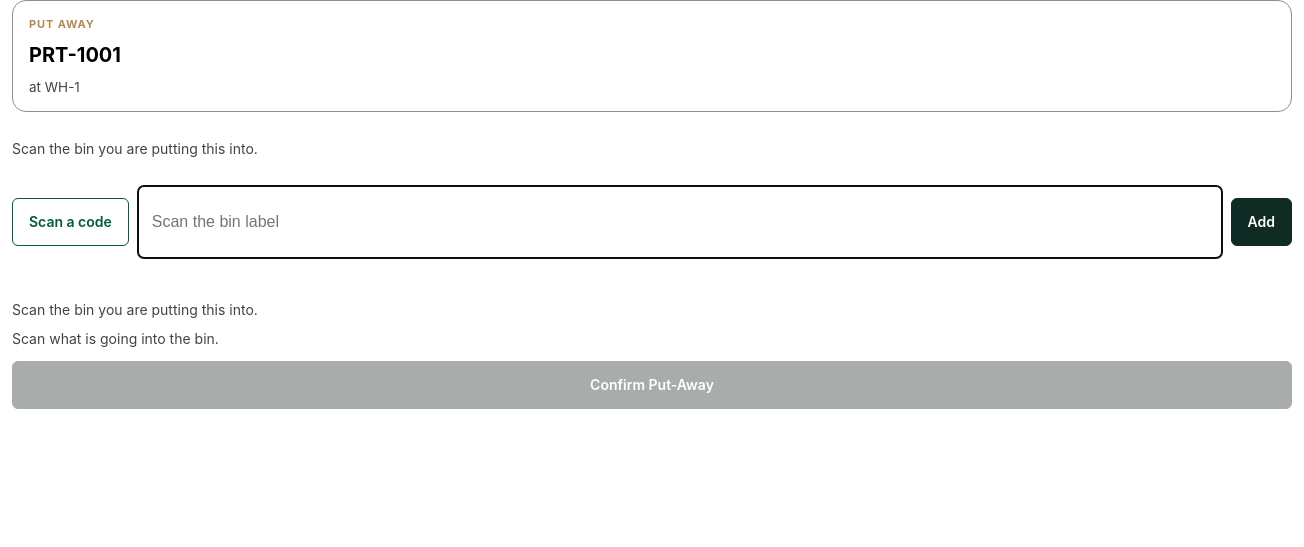
Test case: finishing a stow while disconnected › a stow that DOES reach the server says Put away, and says the warehouse total did not move
The width and height of the screenshot is (1304, 547).
Type "A-14" into the field named "scan bin" at coordinates (680, 222), box 137,185 -> 1223,259
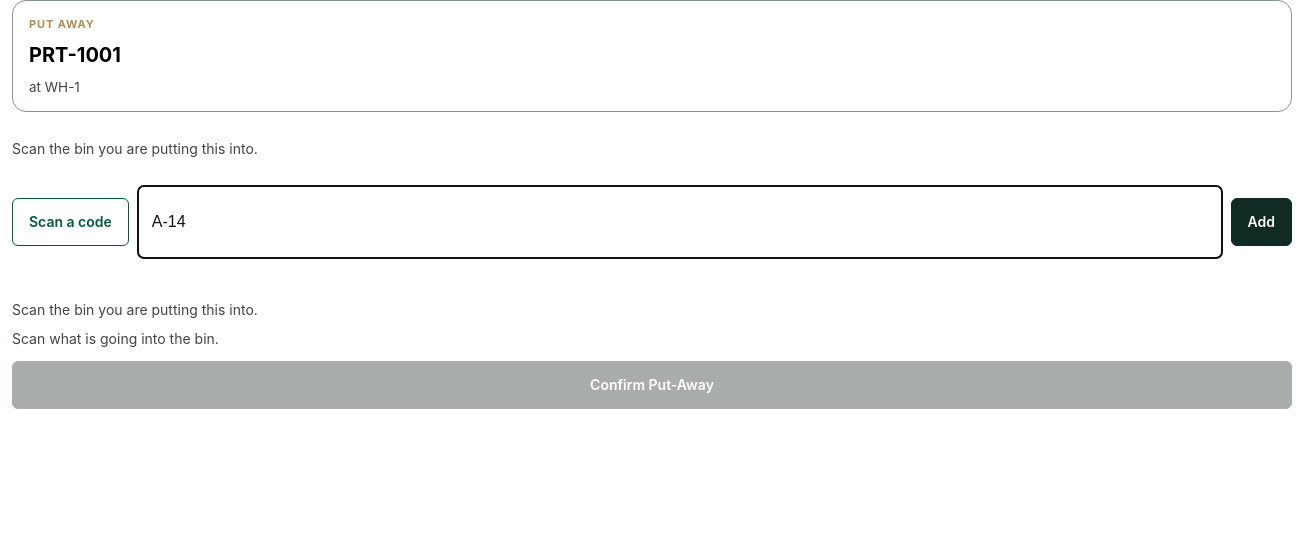
Click the button "Add" at coordinates (1261, 222), box 1230,198 -> 1292,246
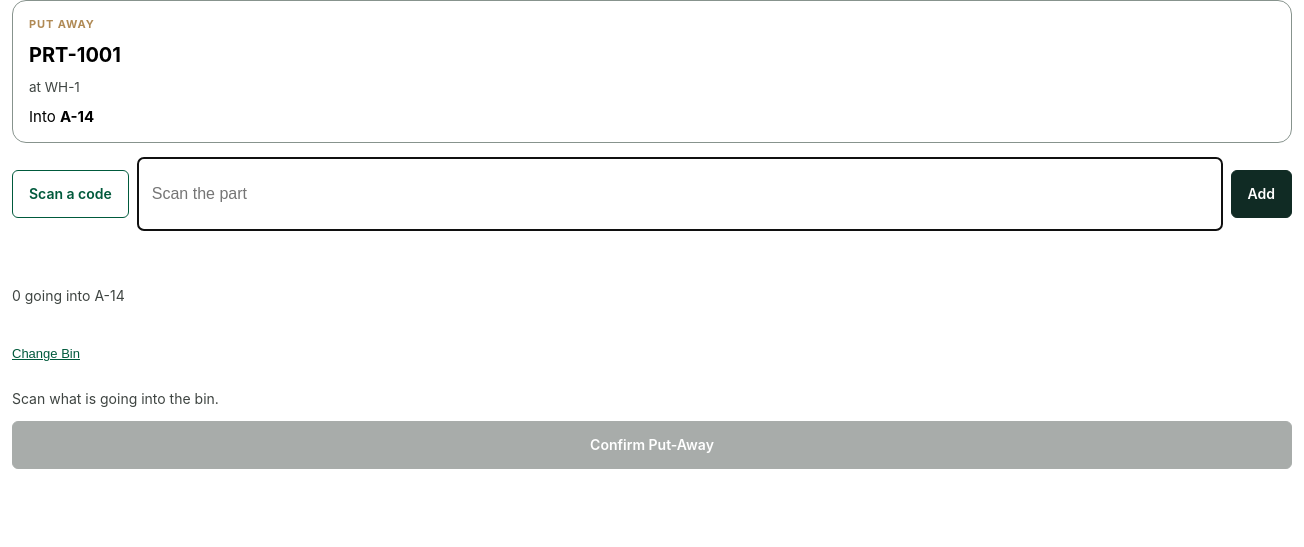
Check: the field named "scan item" is shown
Type "PRT-1001" into the field named "scan item" at coordinates (680, 194), box 137,157 -> 1223,231
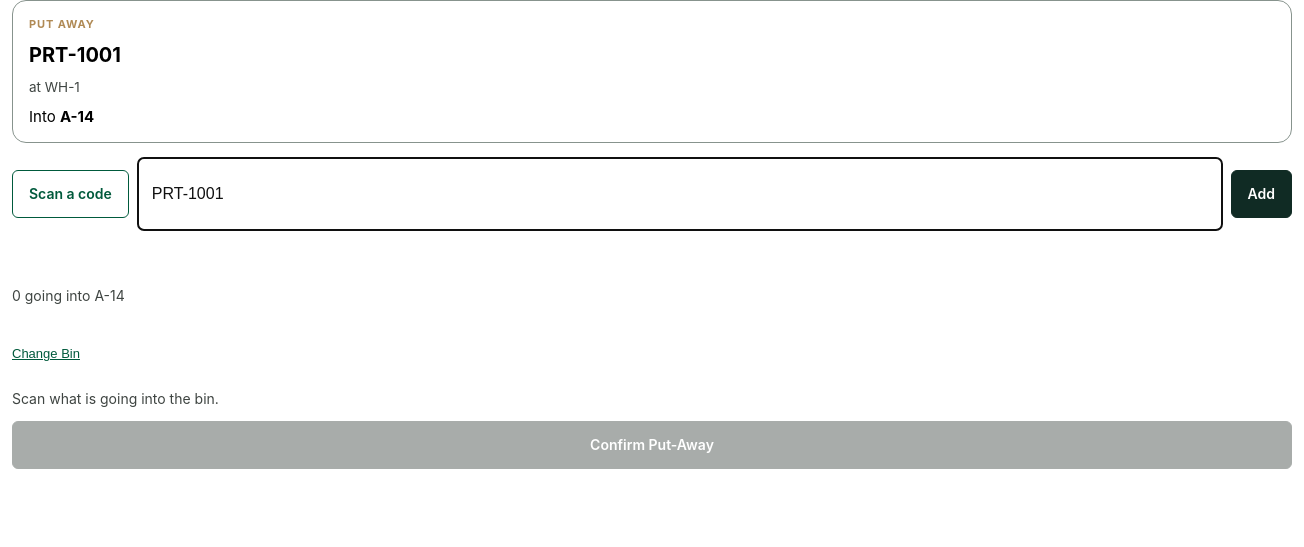
Click the button "Add" at coordinates (1261, 194), box 1230,170 -> 1292,218
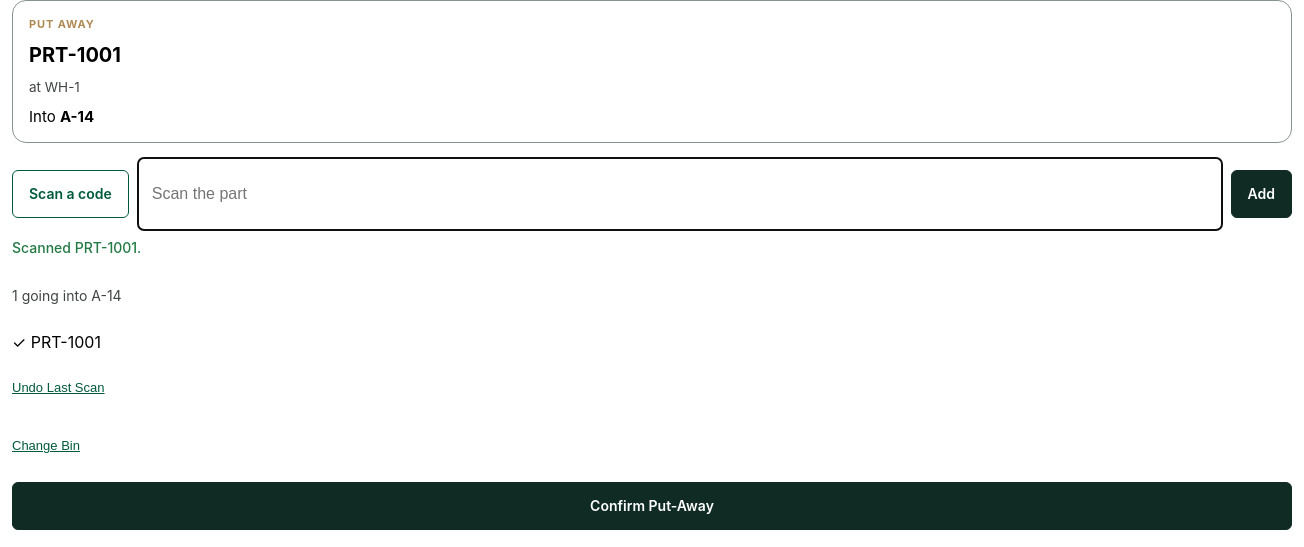
Click the button "Confirm Put-Away" at coordinates (652, 506), box 12,482 -> 1292,530
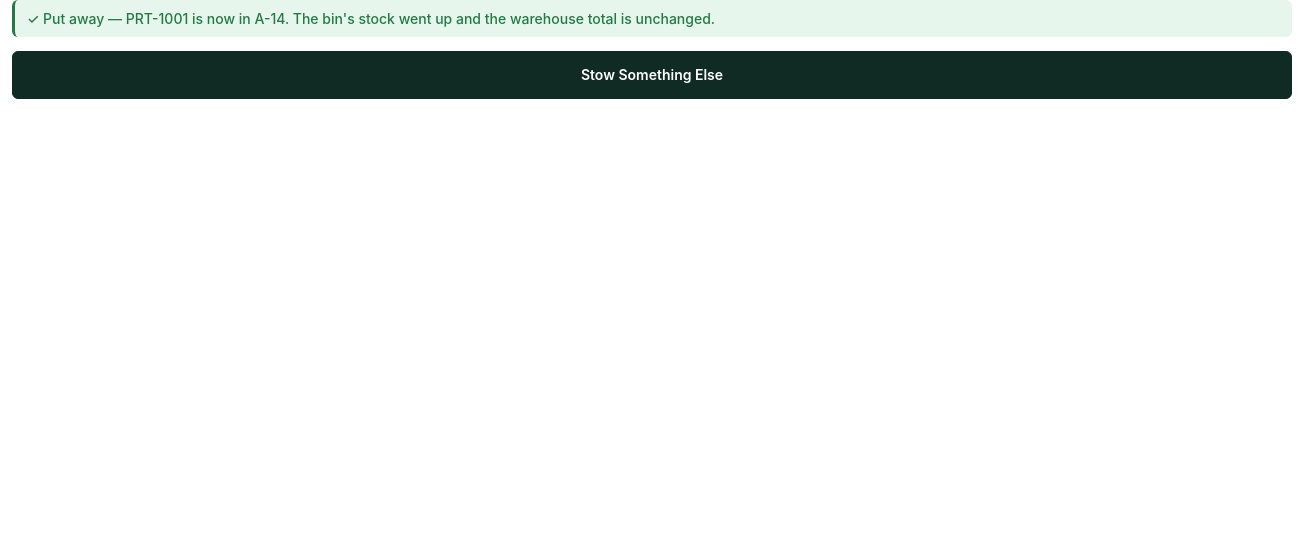
Check: the message with class "fo-scan__notice" shows "Put away", box 27,10 -> 126,27
Check: the message with class "fo-scan__notice" shows "warehouse total is unchanged", box 293,10 -> 715,27
